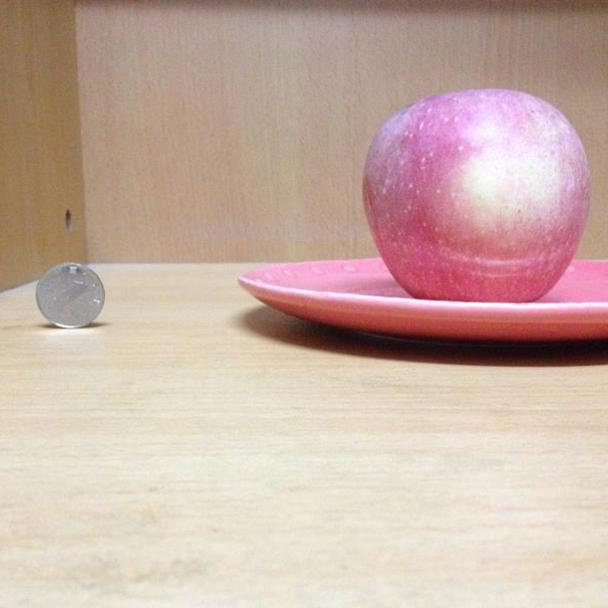apple: (360, 88, 589, 300)
